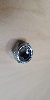Nut: (10, 37, 37, 66)
